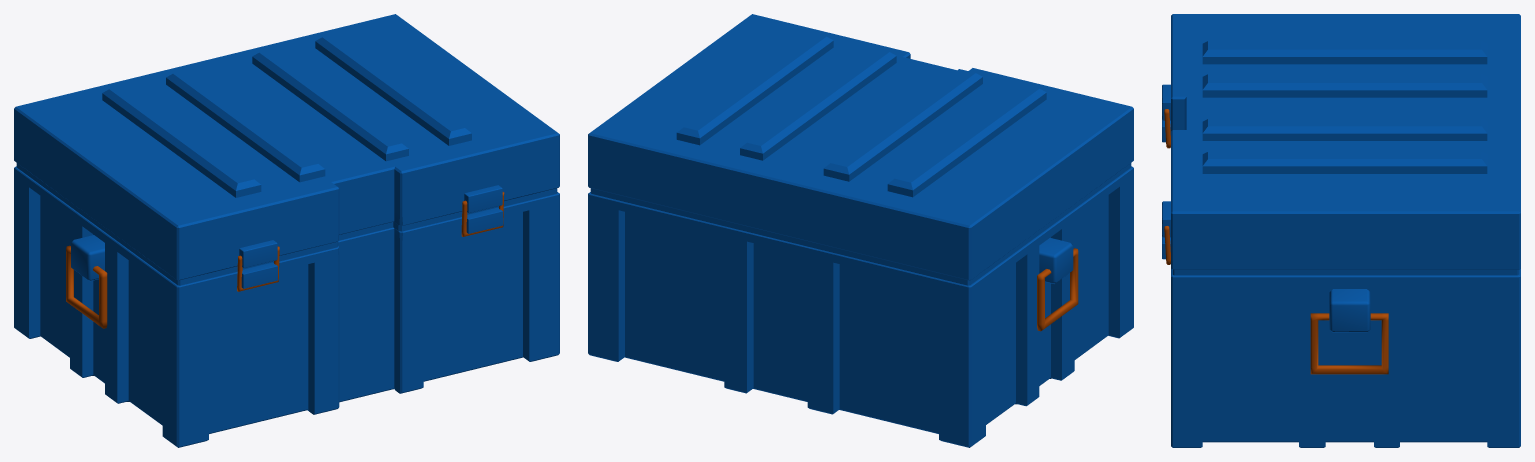
File: Shoe Locker.fbx
The picture shows the model from 3 angles, left to right: view 1: azimuth 30°, elevation 25°; view 2: azimuth 150°, elevation 25°; view 3: azimuth 270°, elevation 25°; orthographic projection. The views are drawn at different scales.
Parts seen in each view (by area): view 1: Shoe_locker; view 2: Shoe_locker; view 3: Shoe_locker.
Part boxes in pixels (x1=…): Shoe_locker: x1=14, y1=14, x2=559, y2=447; Shoe_locker: x1=588, y1=14, x2=1133, y2=447; Shoe_locker: x1=1162, y1=14, x2=1520, y2=447.
Bounding box in the file's own units: 111 × 60.04 × 78.41.
